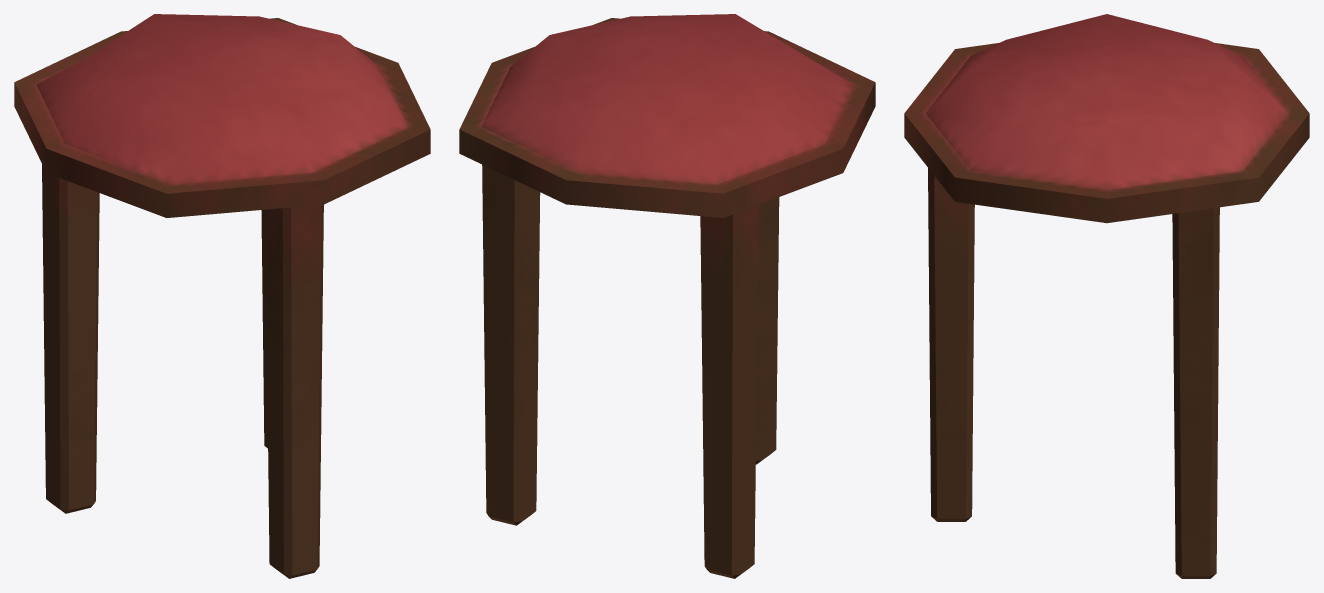
File: stool.fbx
The picture shows the model from 3 angles, left to right: view 1: azimuth 30°, elevation 25°; view 2: azimuth 150°, elevation 25°; view 3: azimuth 270°, elevation 25°; orthographic projection.
Visible parts, largest first — view 1: polySurface431; view 2: polySurface431; view 3: polySurface431.
Part boxes in pixels (box(x1,y1,x2,y2)): polySurface431: box(14, 14, 430, 578); polySurface431: box(459, 14, 875, 578); polySurface431: box(904, 14, 1309, 578).
Bounding box in the file's own units: 0.5161 × 0.648 × 0.5161.
1 material, 1 textured.
